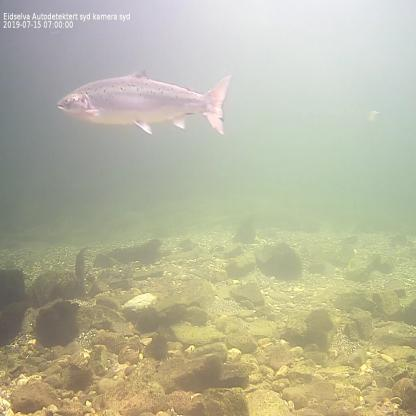salmon: (55, 66, 234, 137)
